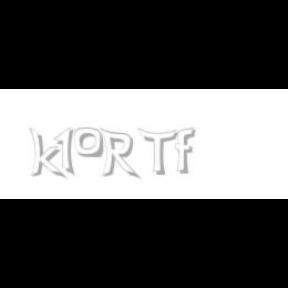1: (53, 128, 75, 176)
R: (100, 128, 138, 180)
T: (137, 128, 177, 176)
f: (175, 128, 199, 174)
k: (29, 128, 67, 180)
o: (74, 128, 104, 158)
